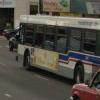Bus: (14, 10, 98, 81)
